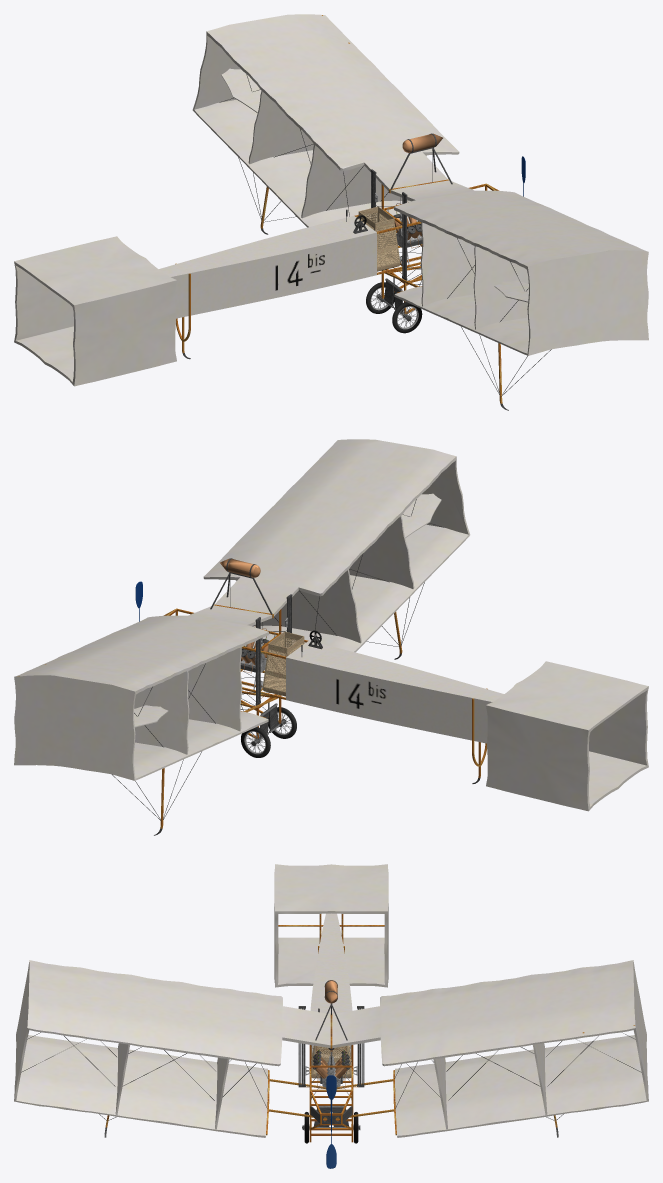
File: 14bisVer2.glb
The picture shows the model from 3 angles, top to bottom: view 1: azimuth 30°, elevation 25°; view 2: azimuth 150°, elevation 25°; view 3: azimuth 270°, elevation 25°; orthographic projection. The views are drawn at different scales.
Parts seen in each view (by area): view 1: Object_11, Object_12, Object_7, Object_10, Object_5, Object_4, Object_3; view 2: Object_11, Object_12, Object_7, Object_10, Object_5, Object_4, Object_3; view 3: Object_11, Object_12, Object_10, Object_7, Object_4, Object_3, Object_5, Object_8.
Boxes of the visible parts, box(x1,y1,x2,y2) form: Object_11: box(14, 32, 648, 386); Object_12: box(206, 14, 648, 269); Object_7: box(219, 74, 551, 396); Object_10: box(175, 15, 508, 410); Object_5: box(358, 206, 400, 271); Object_4: box(375, 133, 442, 273); Object_3: box(370, 147, 452, 280); Object_11: box(14, 457, 648, 811); Object_12: box(15, 439, 456, 694); Object_7: box(112, 499, 443, 821); Object_10: box(17, 604, 487, 835); Object_5: box(262, 631, 304, 696); Object_4: box(220, 558, 287, 698); Object_3: box(210, 572, 292, 705); Object_11: box(14, 864, 648, 1137); Object_12: box(27, 960, 635, 1066); Object_10: box(104, 946, 634, 1142); Object_7: box(21, 914, 641, 1143); Object_4: box(304, 980, 358, 1099); Object_3: box(298, 1003, 364, 1087); Object_5: box(311, 1045, 351, 1078); Object_8: box(326, 1075, 360, 1168).
Bounding box in the file's own units: 43.92 × 15.87 × 53.48.
Materials: 5 (5 with a texture image).
